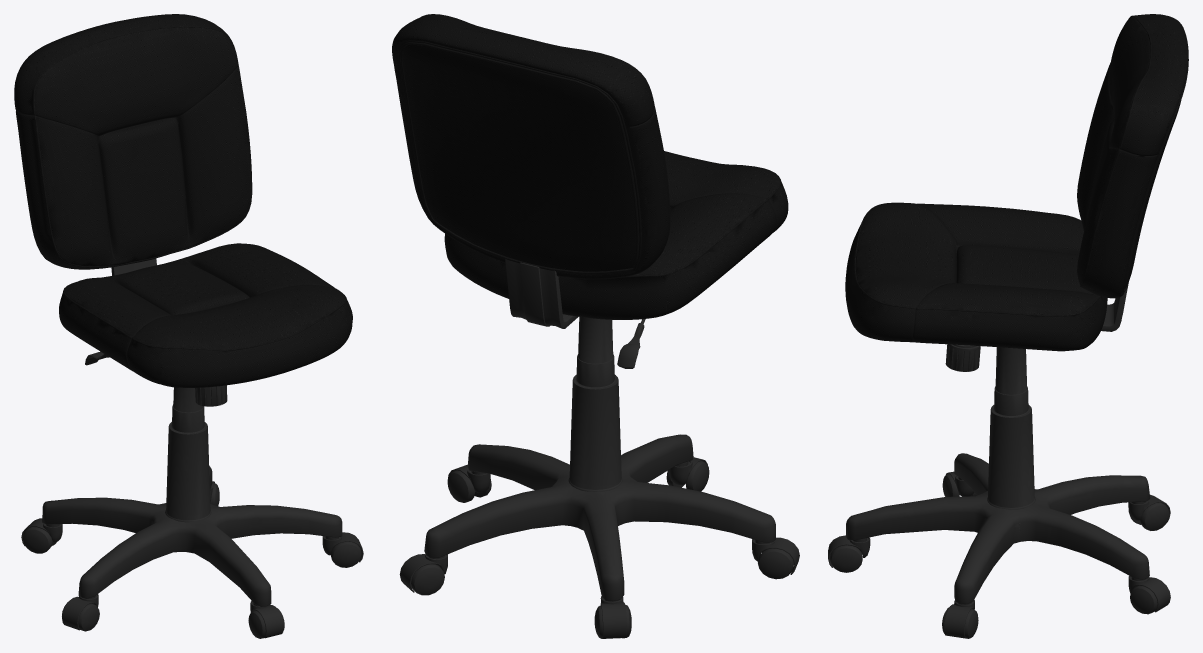
3 renders of one model, left to right at view 1: azimuth 30°, elevation 25°; view 2: azimuth 150°, elevation 25°; view 3: azimuth 270°, elevation 25°, orthographic. The views are drawn at different scales.
Visible parts, largest first — view 1: B016ID34BO; view 2: B016ID34BO; view 3: B016ID34BO.
Boxes of the visible parts, x1,y1,x2,y2 form: B016ID34BO: (14, 14, 363, 638); B016ID34BO: (392, 14, 799, 638); B016ID34BO: (828, 14, 1188, 638).
Bounding box in the file's own units: 0.6095 × 0.9715 × 0.6095.
Materials: 1 (1 with a texture image).
